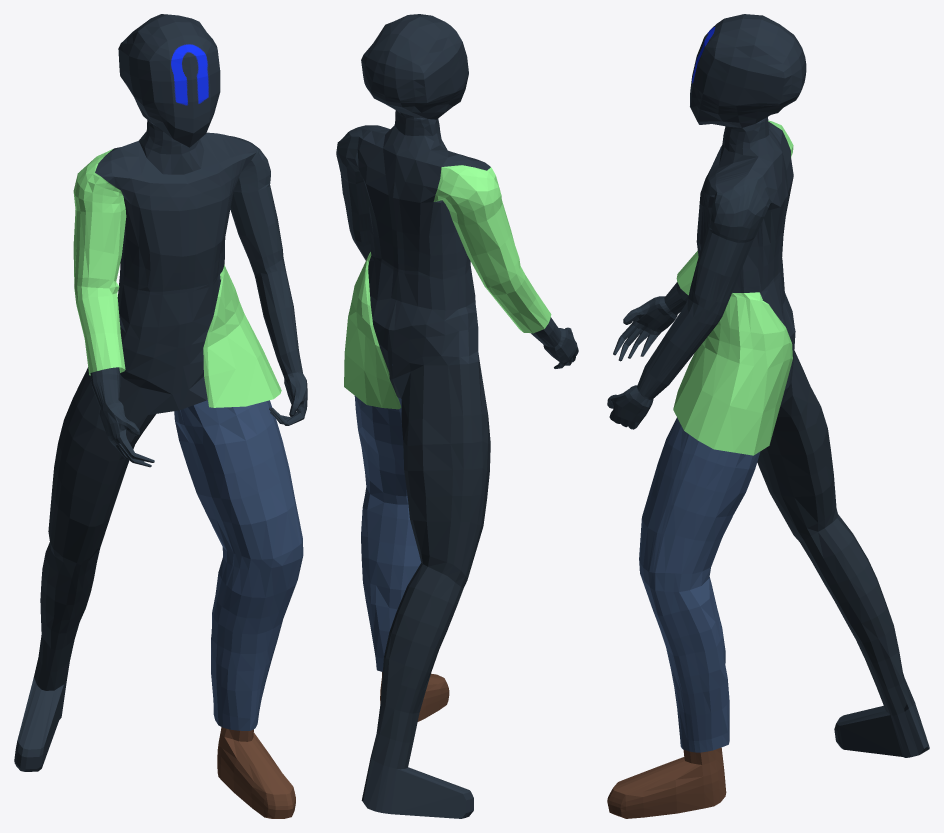
File: Mar_Stun_000005.obj
3 renders of one model, left to right at view 1: azimuth 30°, elevation 25°; view 2: azimuth 150°, elevation 25°; view 3: azimuth 270°, elevation 25°, orthographic. The views are drawn at different scales.
Parts seen in each view (by area): view 1: Cube.000_Cube.001; view 2: Cube.000_Cube.001; view 3: Cube.000_Cube.001.
Boxes of the visible parts, box(x1,y1,x2,y2) form: Cube.000_Cube.001: box(14, 14, 307, 818); Cube.000_Cube.001: box(336, 14, 578, 818); Cube.000_Cube.001: box(607, 14, 929, 818).
Size of the model in its own units: 1.09 by 3.89 by 1.47.
